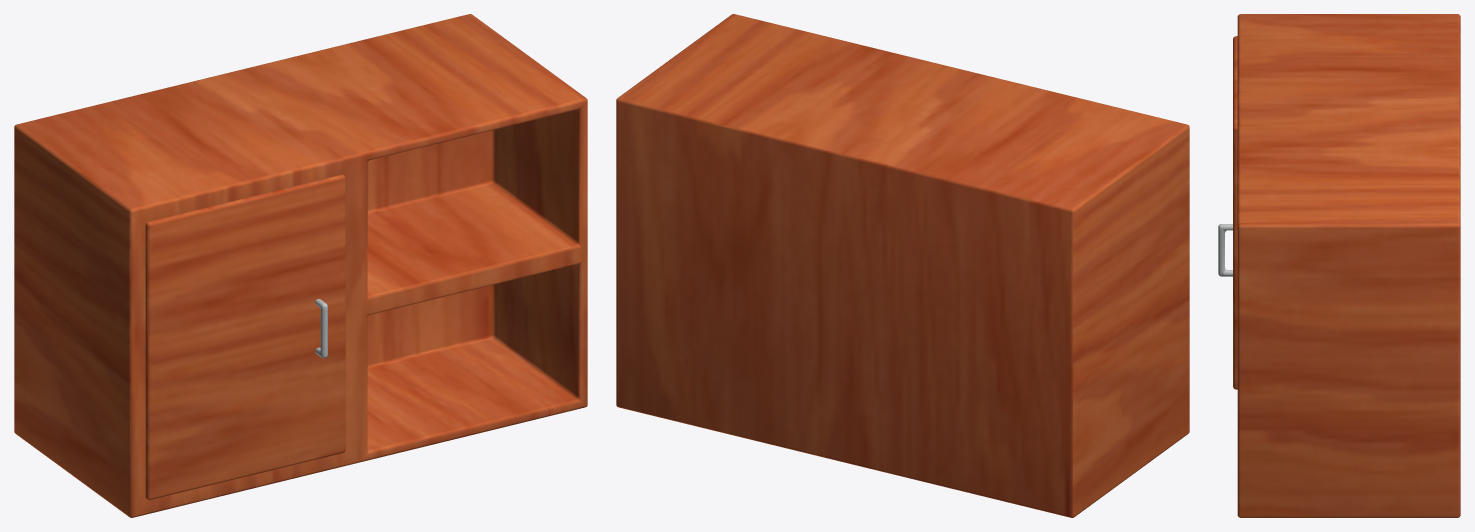
Rendered from cabinet_2.gltf.
The picture shows the model from 3 angles, left to right: view 1: azimuth 30°, elevation 25°; view 2: azimuth 150°, elevation 25°; view 3: azimuth 270°, elevation 25°; orthographic projection. The views are drawn at different scales.
Visible parts, largest first — view 1: node0; view 2: node0; view 3: node0.
Boxes of the visible parts, x1,y1,x2,y2 form: node0: (14,14,587,517); node0: (616,14,1189,517); node0: (1218,14,1460,517).
Size of the model in its own units: 1.01 by 0.6539 by 0.4892.
1 material, 1 textured.
